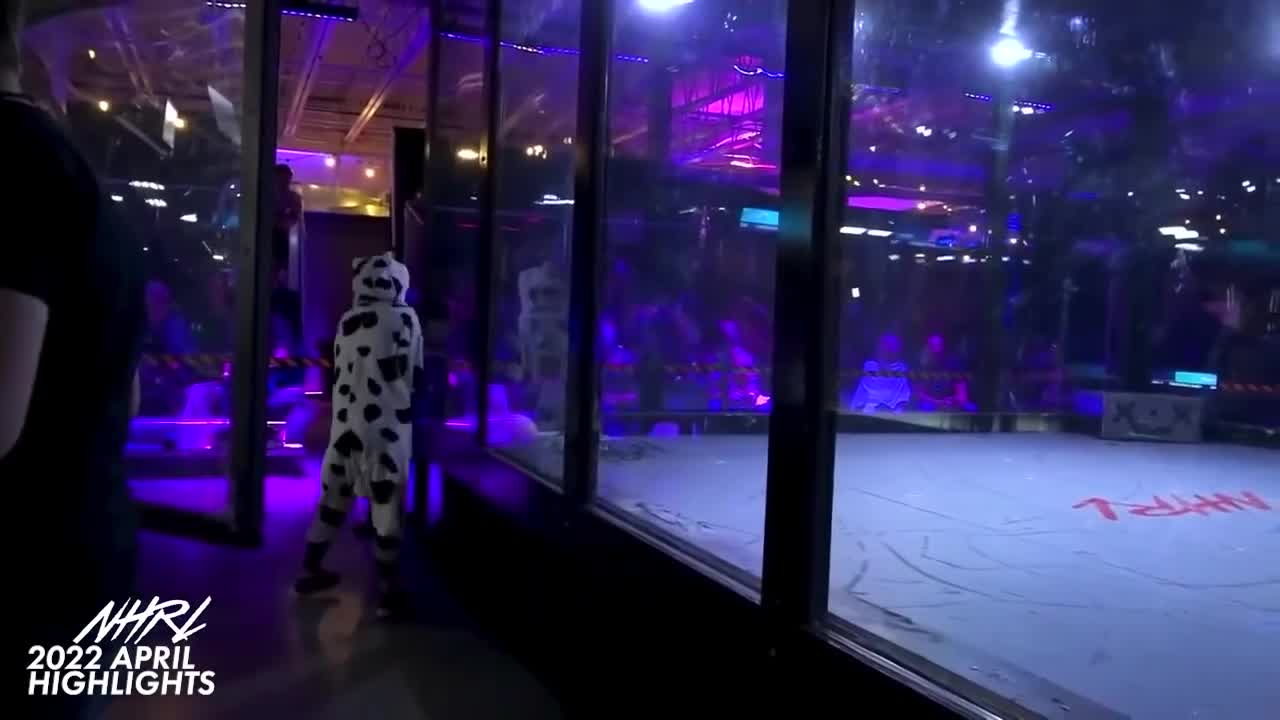housebot: (1098, 392, 1208, 446)
